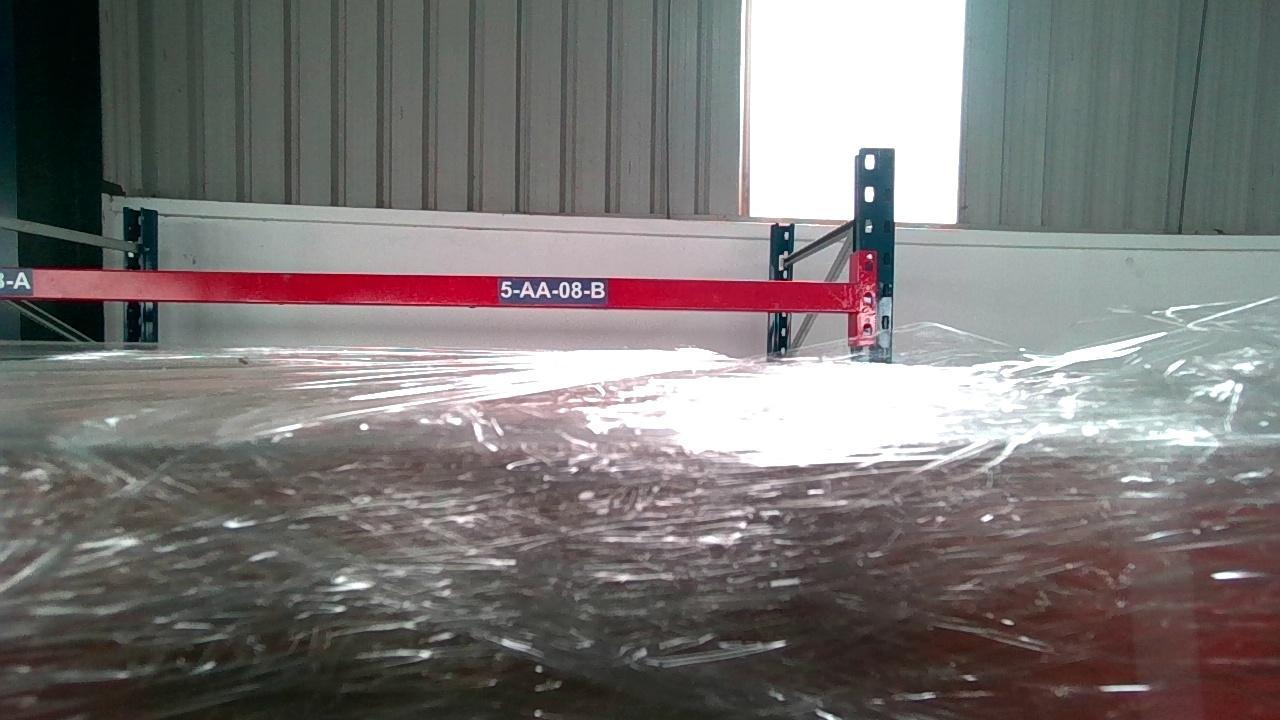h_rack: (2, 266, 857, 312)
